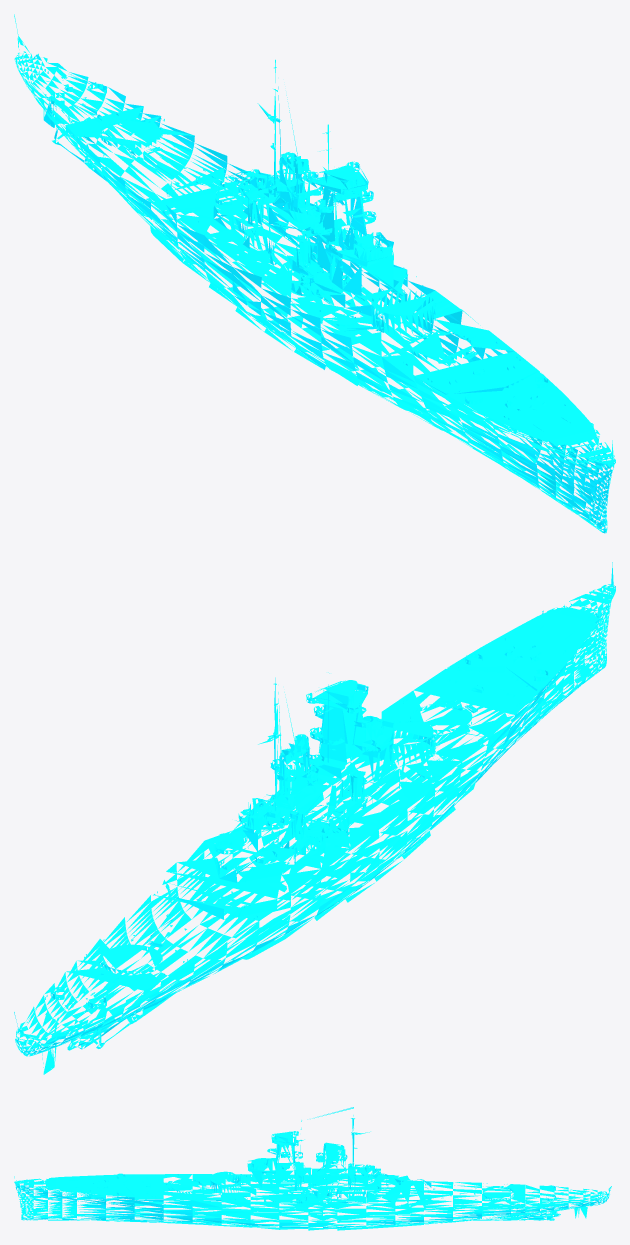
File: Prinz_Adalbert.glb
3 renders of one model, top to bottom at view 1: azimuth 30°, elevation 25°; view 2: azimuth 150°, elevation 25°; view 3: azimuth 270°, elevation 25°, orthographic. The views are drawn at different scales.
Bounding box in the file's own units: 1.98 × 3.7 × 17.32.
